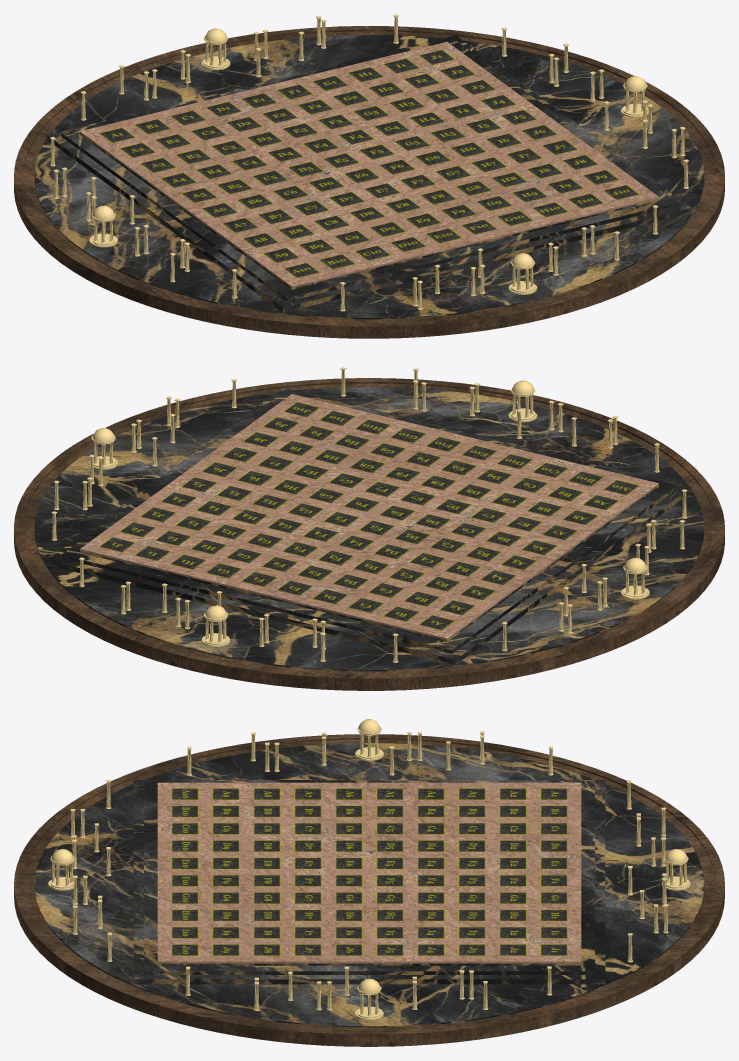
File: tablero10.glb
The picture shows the model from 3 angles, top to bottom: view 1: azimuth 30°, elevation 25°; view 2: azimuth 150°, elevation 25°; view 3: azimuth 270°, elevation 25°; orthographic projection.
Visible parts, largest first — view 1: BaseCircular, Tabla, Casillas, Madera, Adornos, Casillas.002; view 2: BaseCircular, Tabla, Casillas, Madera, Adornos, Casillas.002; view 3: BaseCircular, Tabla, Casillas, Madera, Casillas.002, Adornos.
Part boxes in pixels (<box>): BaseCircular: <box>34,35,704,319</box>; Tabla: <box>80,41,658,289</box>; Casillas: <box>99,49,639,278</box>; Madera: <box>14,26,724,338</box>; Adornos: <box>50,14,688,311</box>; Casillas.002: <box>99,49,639,278</box>; BaseCircular: <box>34,387,704,671</box>; Tabla: <box>80,394,658,642</box>; Casillas: <box>99,402,639,630</box>; Madera: <box>14,378,724,690</box>; Adornos: <box>51,367,687,662</box>; Casillas.002: <box>99,402,639,630</box>; BaseCircular: <box>34,743,704,1027</box>; Tabla: <box>157,782,581,965</box>; Casillas: <box>171,788,567,955</box>; Madera: <box>14,734,724,1046</box>; Casillas.002: <box>171,788,567,955</box>; Adornos: <box>48,719,690,1020</box>.
Size of the model in its own units: 52 by 3.86 by 52.
6 materials, 5 textured.
